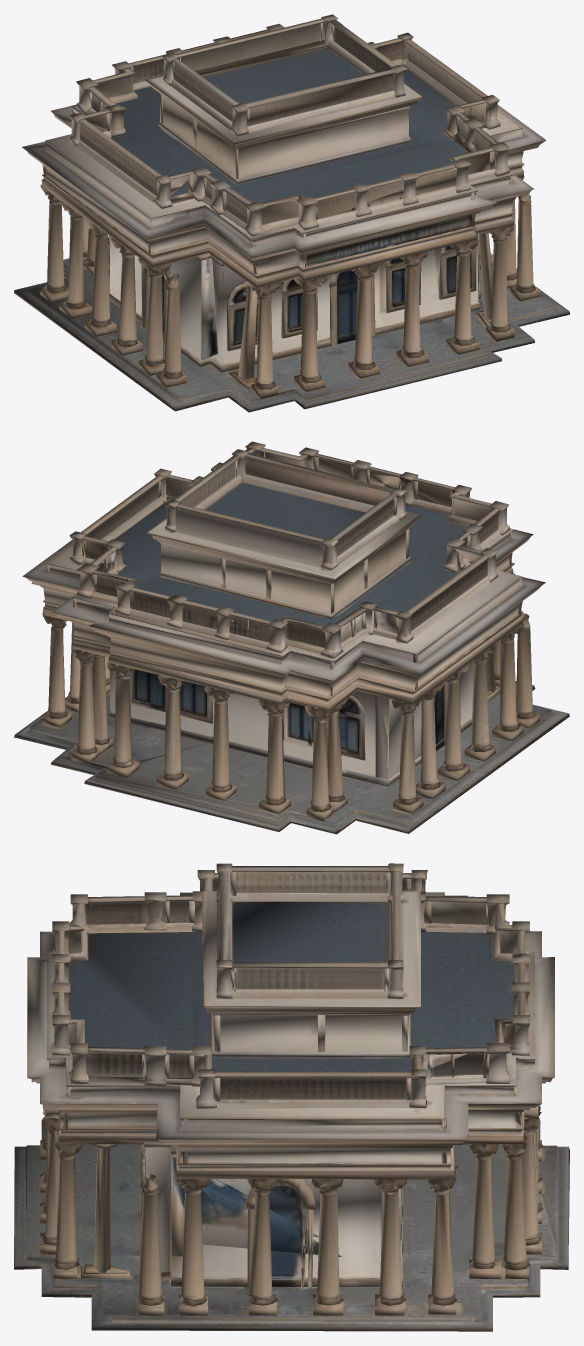
3 views of the same model, one above another, from view 1: azimuth 30°, elevation 25°; view 2: azimuth 150°, elevation 25°; view 3: azimuth 270°, elevation 25° (orthographic). The views are drawn at different scales.
Size of the model in its own units: 0.9497 by 0.5361 by 0.9155.
1 material, 1 textured.
